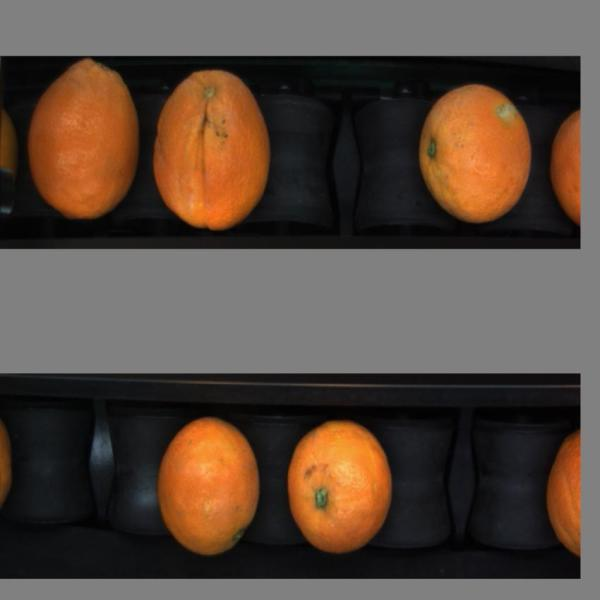Otros defectos: (415, 74, 533, 224), (540, 427, 581, 556)
Sana: (149, 61, 276, 238), (20, 56, 146, 228), (152, 410, 268, 559), (284, 415, 399, 562), (548, 104, 582, 224)
